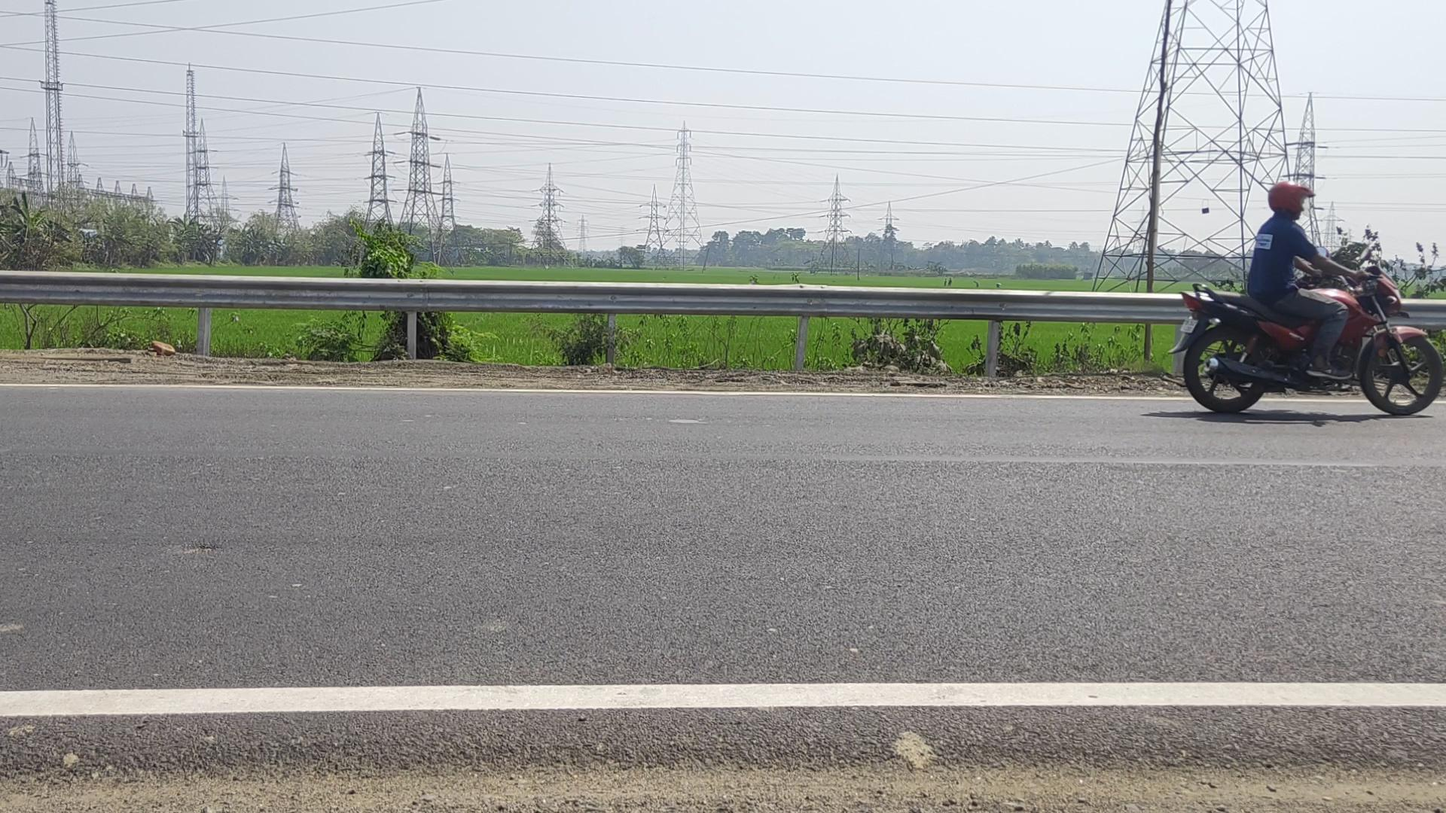bike: (1167, 182, 1444, 416)
